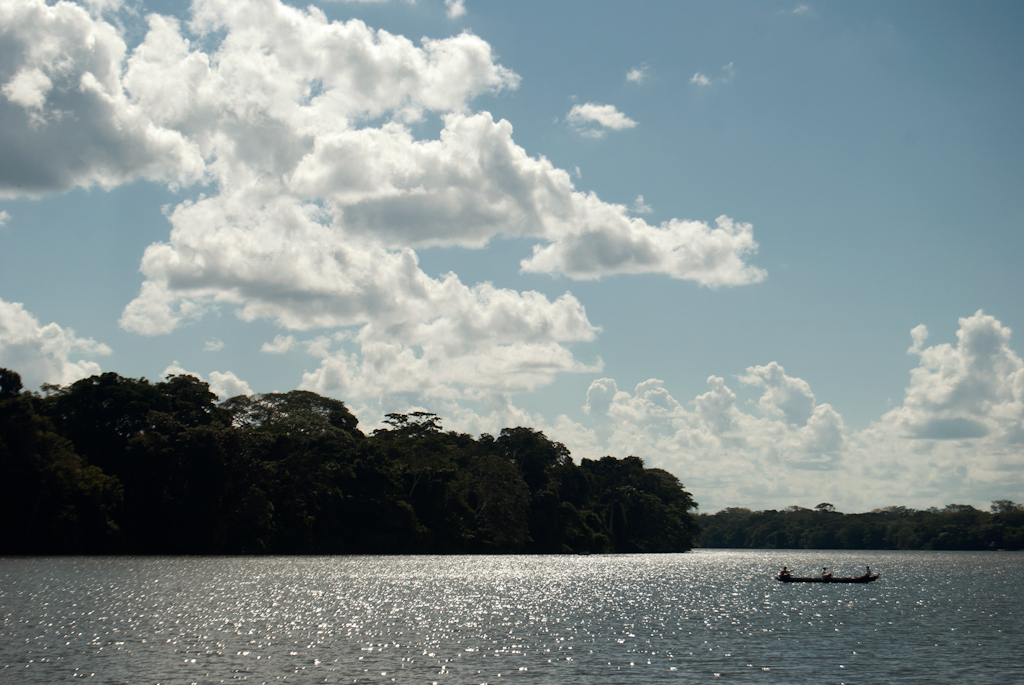Tree: (0, 362, 700, 555)
